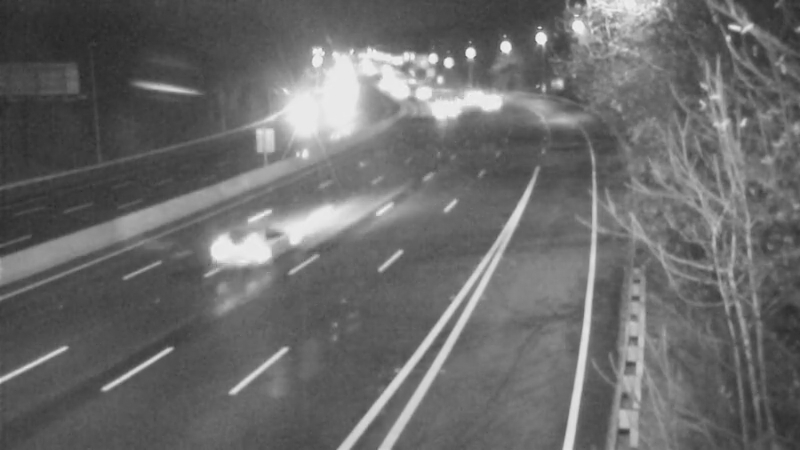vehicle: (199, 205, 279, 285), (450, 65, 500, 115), (461, 79, 511, 129), (416, 82, 466, 132), (273, 92, 323, 142)
